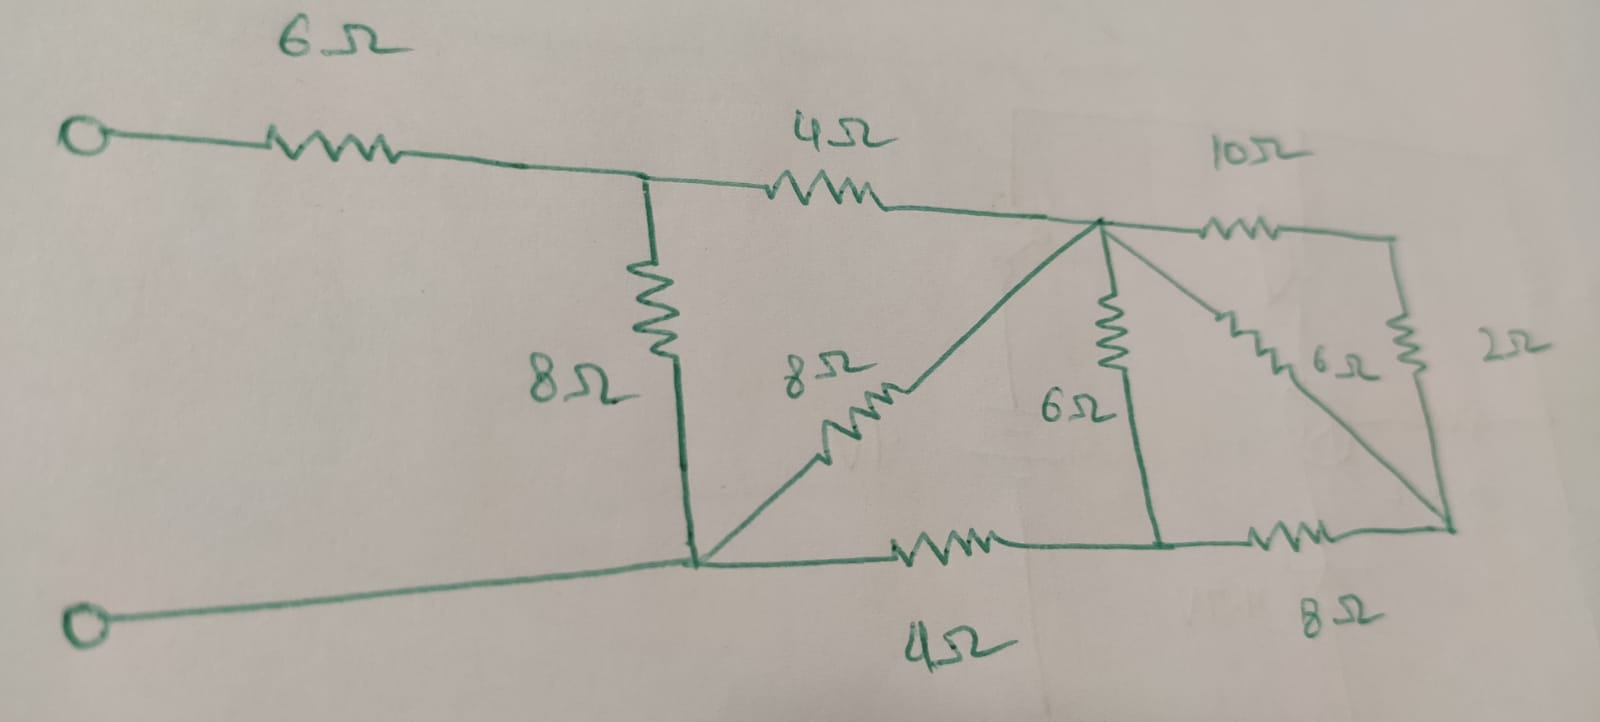junction: (678, 545, 718, 580), (1138, 523, 1176, 561), (629, 159, 665, 190), (1087, 208, 1117, 243), (1377, 229, 1404, 255), (1439, 518, 1463, 541)
resistor: (818, 378, 913, 466), (1211, 305, 1298, 386), (624, 257, 683, 363), (264, 124, 399, 165), (883, 524, 1006, 567), (763, 167, 890, 208), (1090, 286, 1132, 376), (1243, 518, 1335, 553), (1385, 311, 1431, 379), (1192, 211, 1285, 242)
terminal: (56, 110, 113, 161), (59, 599, 116, 650)
text: (526, 350, 644, 409), (276, 11, 412, 59), (904, 620, 1019, 670), (788, 108, 902, 151), (1294, 591, 1386, 643), (785, 348, 882, 396), (1206, 130, 1313, 172), (1311, 338, 1391, 385), (1474, 322, 1554, 367), (1040, 383, 1119, 426)
